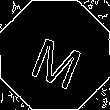M_N: (24, 23, 86, 87)
